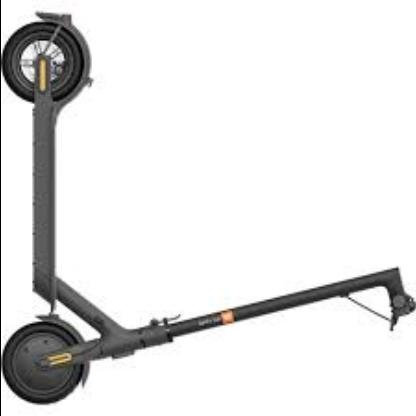bike: (1, 7, 414, 407)
